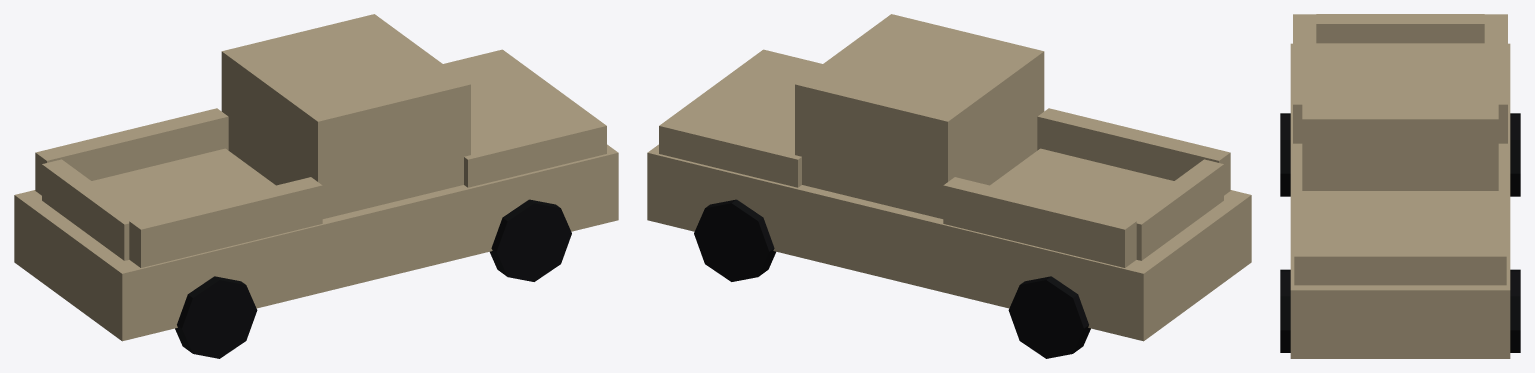
File: proxy_pickup_beige.dae
The picture shows the model from 3 angles, left to right: view 1: azimuth 30°, elevation 25°; view 2: azimuth 150°, elevation 25°; view 3: azimuth 270°, elevation 25°; orthographic projection.
Parts seen in each view (by area): view 1: proxy_pickup; view 2: proxy_pickup; view 3: proxy_pickup.
Part boxes in pixels (x1=…): proxy_pickup: x1=14, y1=14, x2=618, y2=358; proxy_pickup: x1=647, y1=14, x2=1251, y2=358; proxy_pickup: x1=1280, y1=14, x2=1520, y2=358.
Size of the model in its own units: 5 by 2.06 by 1.95.
